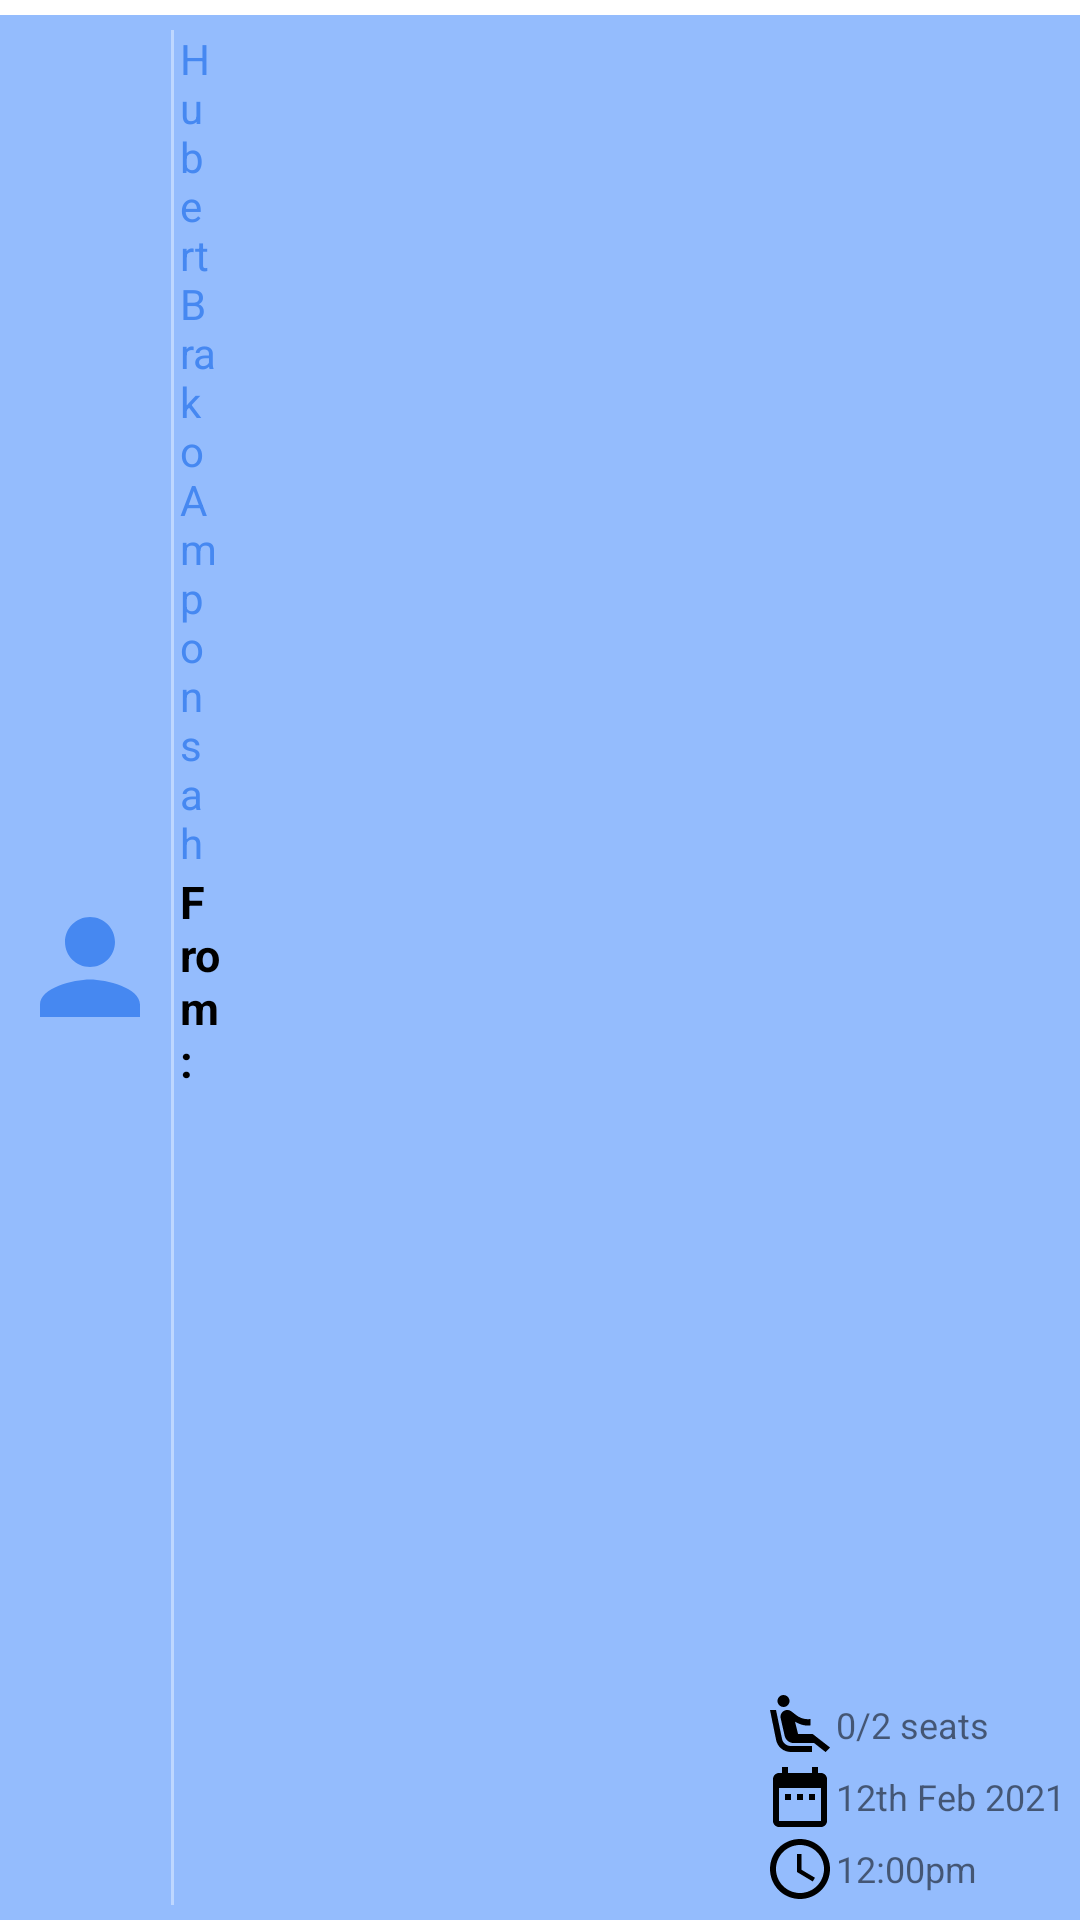

Icon bounding boxes for this 1080×1920 phone screenshot, format (x1, y1, x2, y2):
person: (40, 917, 140, 1017)
